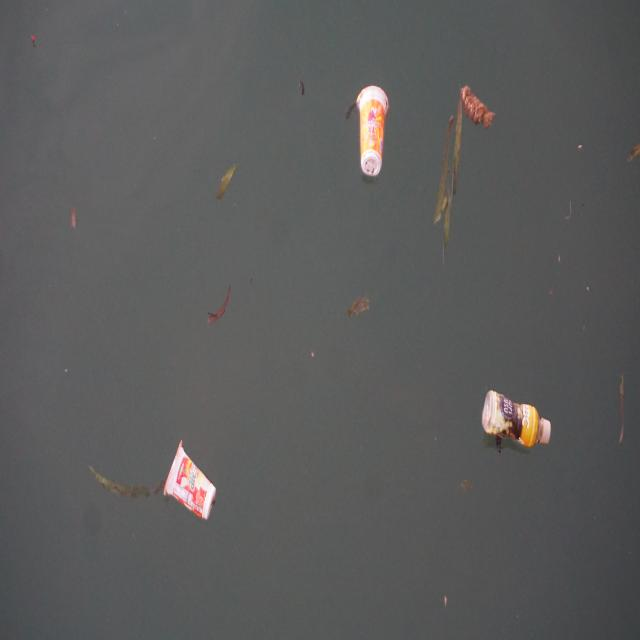Botol Plastik: (474, 382, 559, 460)
Bungkus Minuman: (162, 433, 222, 531), (351, 78, 391, 186)
